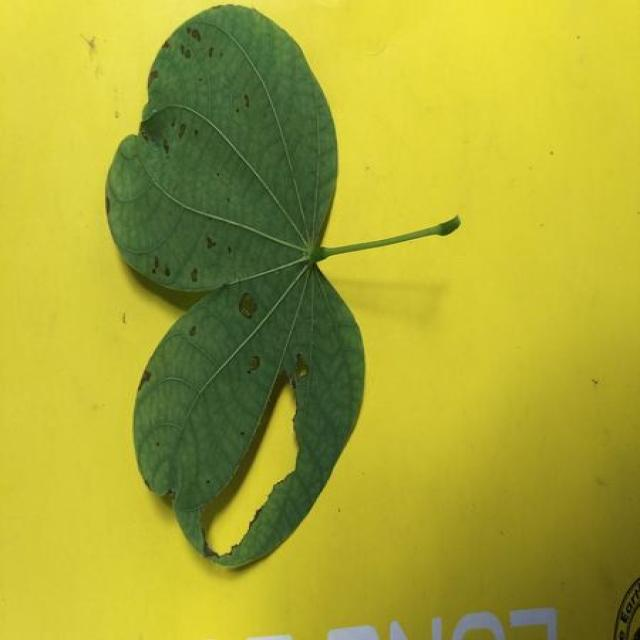Kambajala: (107, 5, 460, 567)
